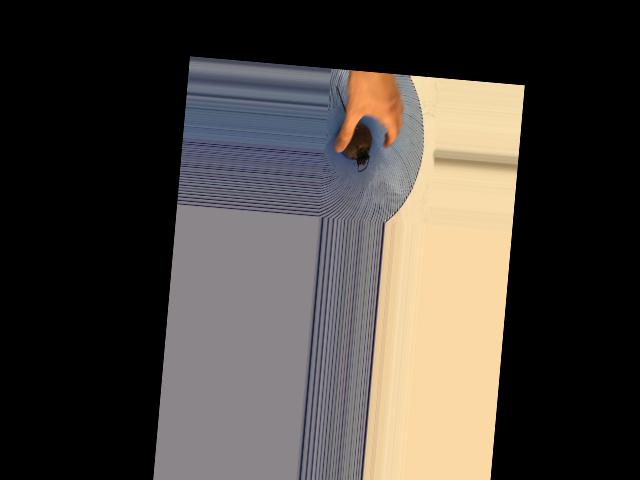beet: (328, 86, 376, 173)
